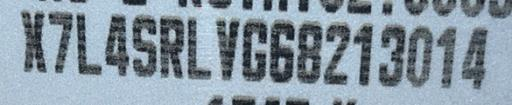letter: (14, 6, 50, 77), (182, 13, 218, 82), (376, 20, 410, 91), (72, 9, 106, 78), (238, 16, 272, 85), (211, 13, 243, 84), (460, 22, 492, 93), (402, 24, 436, 89), (322, 19, 354, 86), (156, 10, 186, 81), (101, 10, 131, 81), (46, 7, 74, 82), (130, 12, 158, 85), (350, 20, 380, 87), (268, 16, 296, 85), (434, 21, 462, 90), (296, 16, 322, 85)
